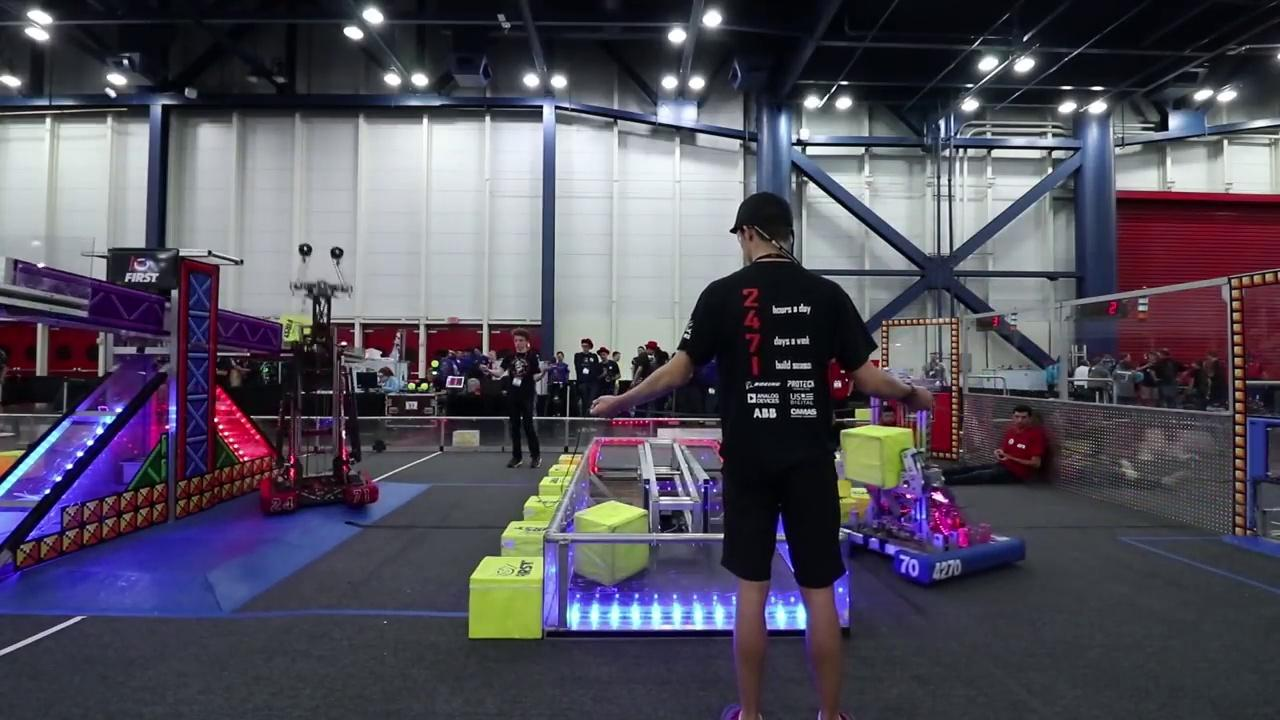robot: (249, 240, 385, 520), (838, 419, 1035, 590)
